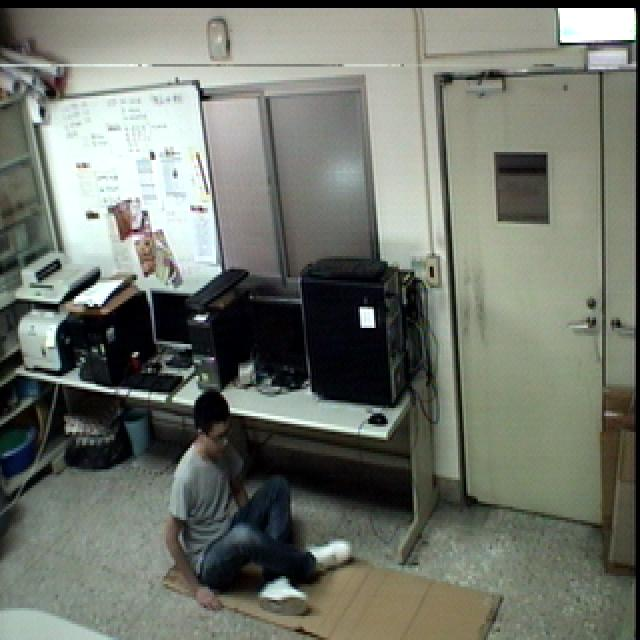sit: (156, 387, 360, 620)
